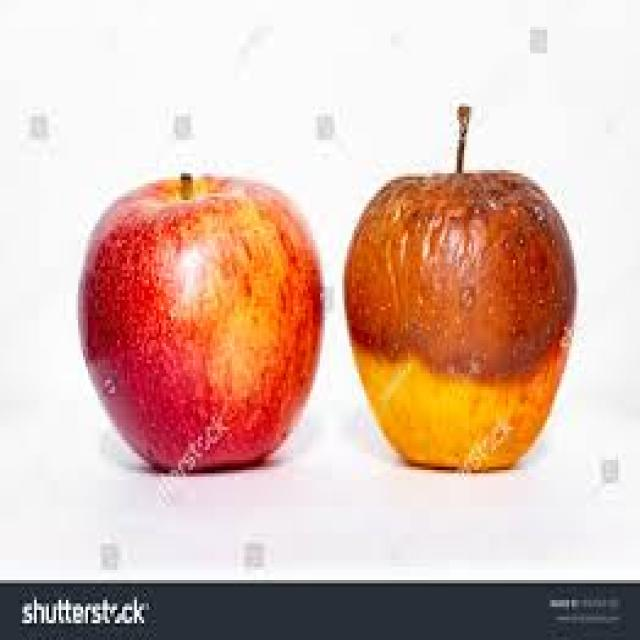Red Apple: (78, 173, 327, 476)
Rotten Apple: (346, 175, 569, 470)
